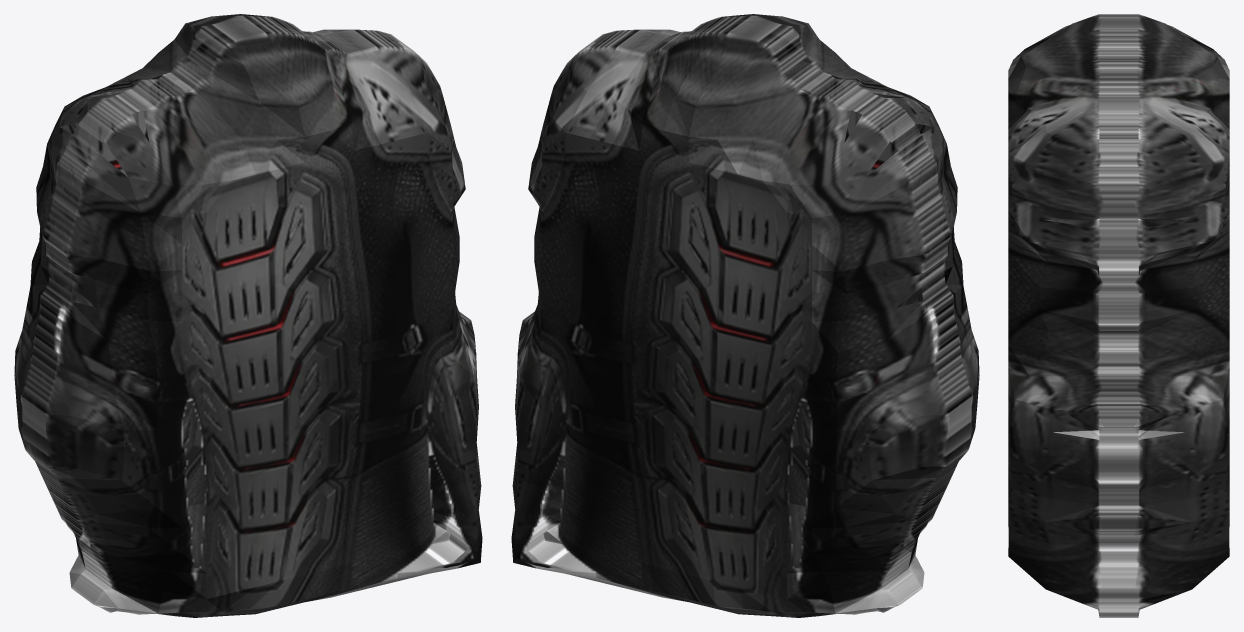
File: rev-it-vector-body-armor-176.glb
The picture shows the model from 3 angles, left to right: view 1: azimuth 30°, elevation 25°; view 2: azimuth 150°, elevation 25°; view 3: azimuth 270°, elevation 25°; orthographic projection. The views are drawn at different scales.
Parts seen in each view (by area): view 1: world; view 2: world; view 3: world.
Part boxes in pixels (x1,y1,x2,y2): world: [14, 14, 482, 617]; world: [511, 14, 979, 617]; world: [1008, 14, 1229, 617].
Size of the model in its own units: 0.7851 by 1 by 0.4.
1 material, 1 textured.
